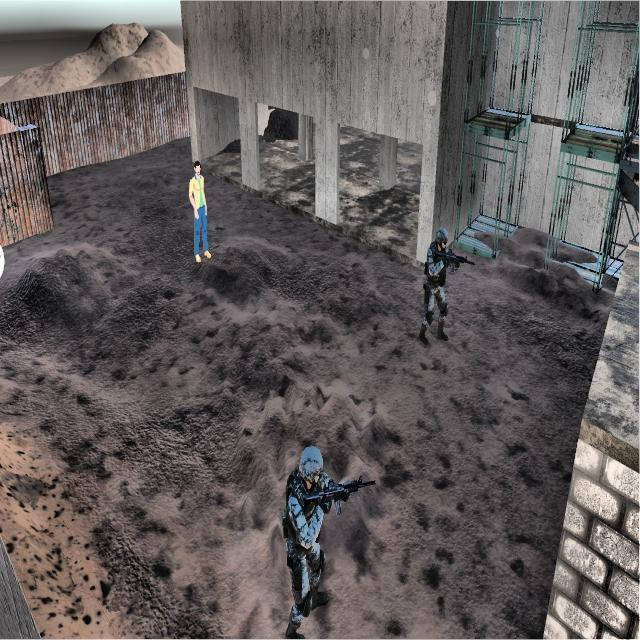bad: (271, 432, 342, 640), (413, 215, 464, 348)
good: (184, 145, 218, 271)
